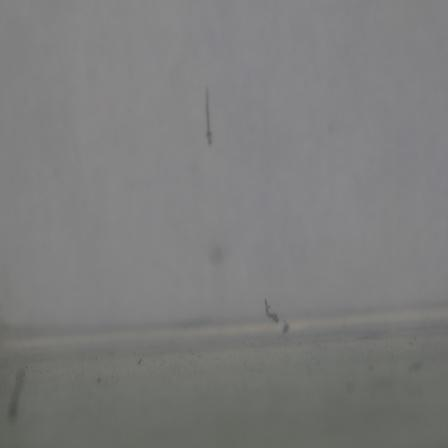Jentik-Nyamuk: (261, 293, 282, 328)
